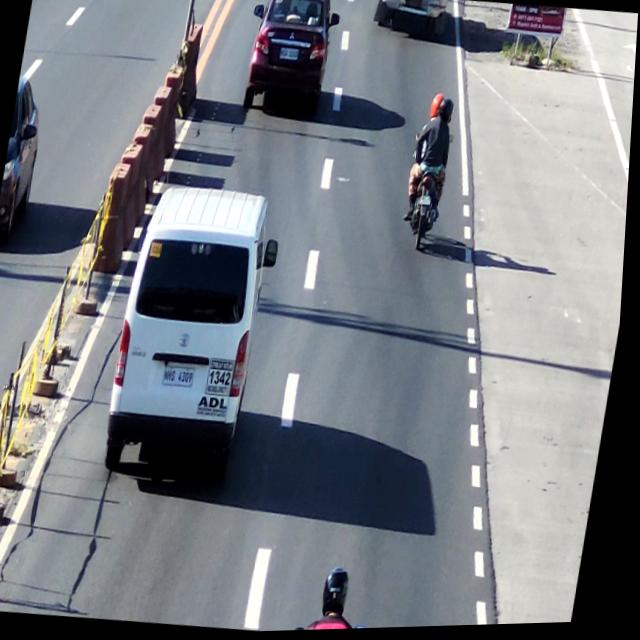Car: (105, 178, 287, 493), (237, 0, 339, 123)
Jeep: (373, 0, 450, 31)
License-Plate: (163, 362, 206, 398), (279, 44, 302, 66), (420, 195, 437, 212)
Motorcycle: (391, 92, 467, 262), (298, 555, 389, 632)
